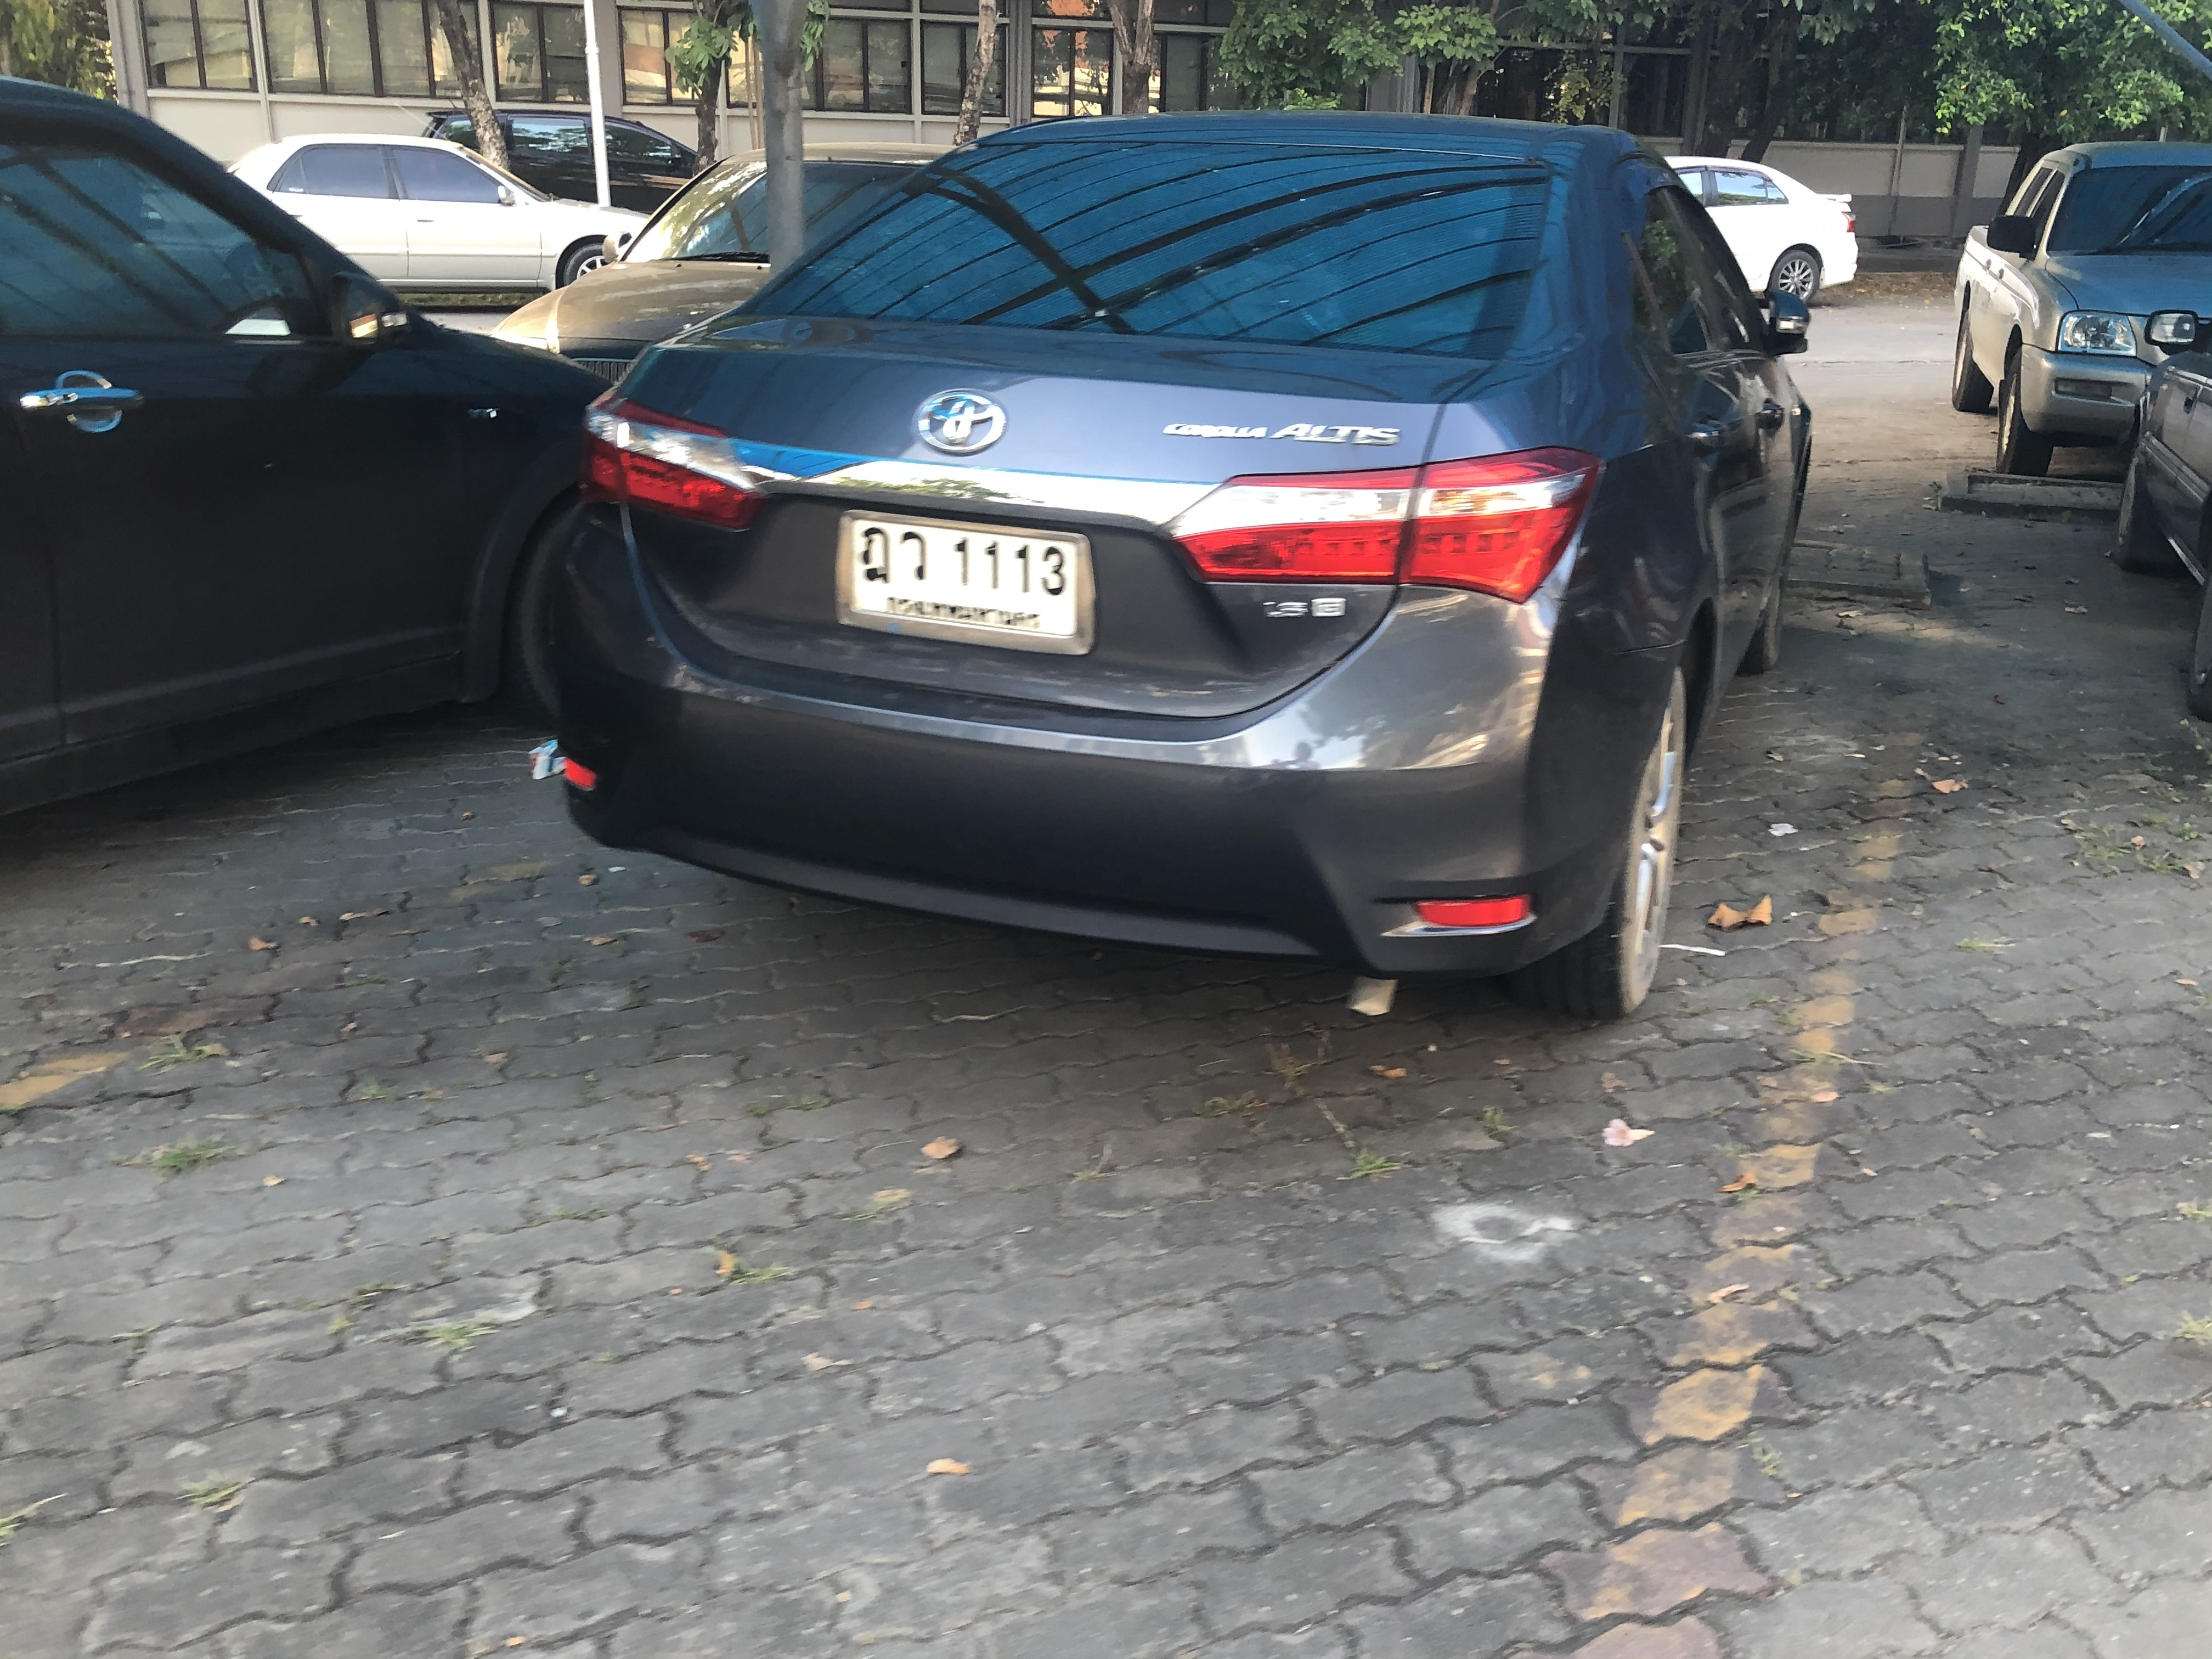in: (848, 518, 1085, 643)
out: (831, 505, 1103, 664)
